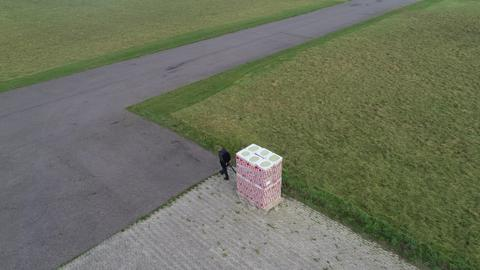RockwoolPallet: (233, 143, 283, 211)
